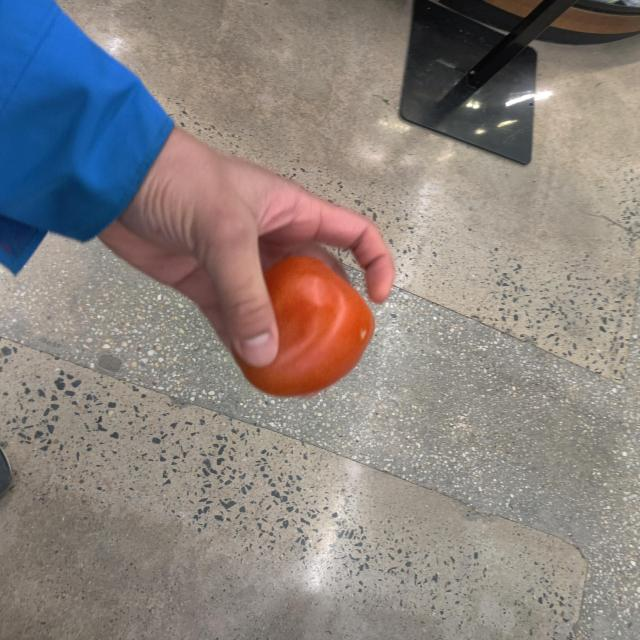Tomatoes: (237, 258, 374, 395)
